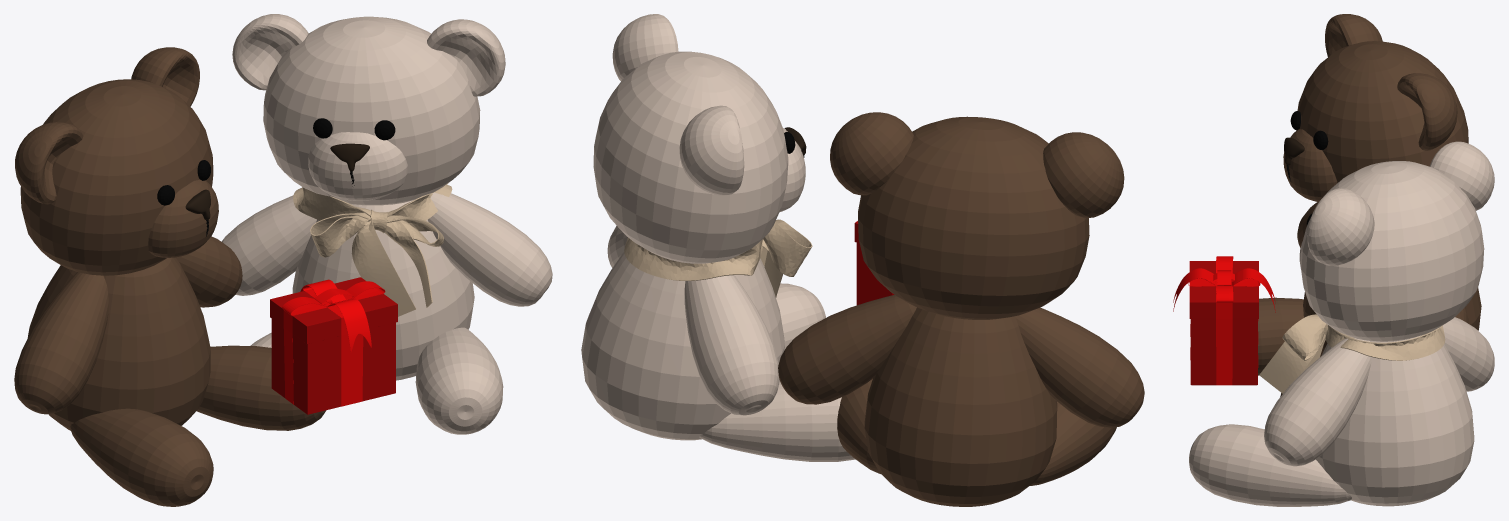
File: teddy_bears_withgiftbox_edited.glb
The picture shows the model from 3 angles, left to right: view 1: azimuth 30°, elevation 25°; view 2: azimuth 150°, elevation 25°; view 3: azimuth 270°, elevation 25°; orthographic projection. The views are drawn at different scales.
Size of the model in its own units: 5.39 by 3.65 by 3.14.
